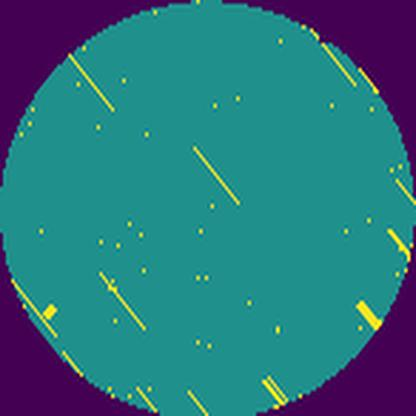Scratch: (96, 268, 151, 334), (67, 51, 119, 115), (13, 275, 61, 341), (192, 144, 243, 206), (258, 371, 290, 408), (386, 226, 414, 260), (185, 388, 213, 416)
